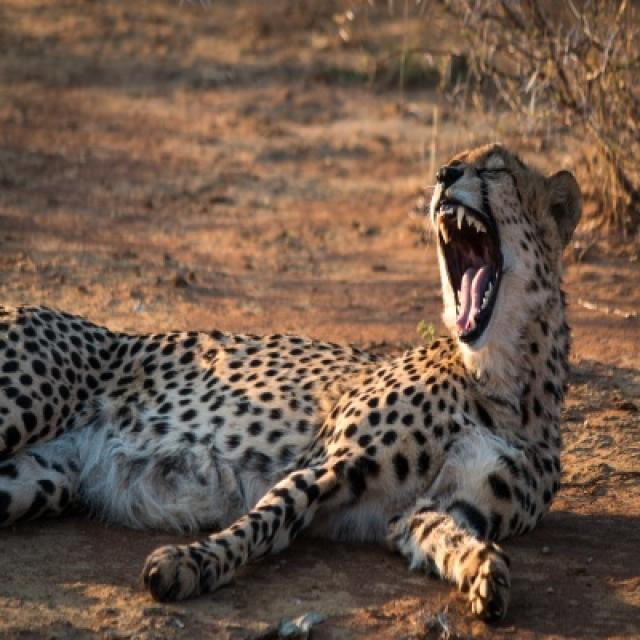Cheetah: (0, 127, 584, 628)
